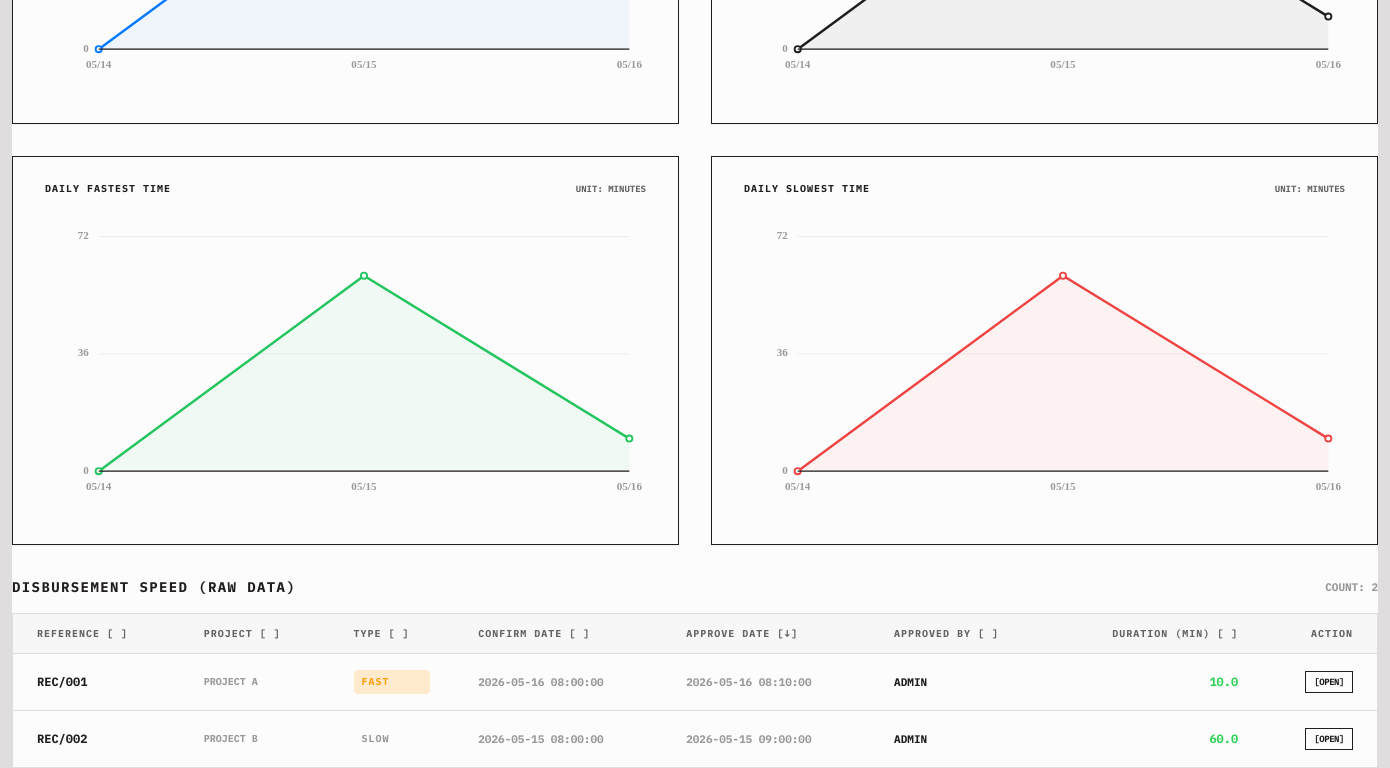
Scenario: DisbursementReport Component › handles sorting
(page scrolled)
Click the text "Reference [ ]": point(82, 634) left=37, top=627, right=128, bottom=640
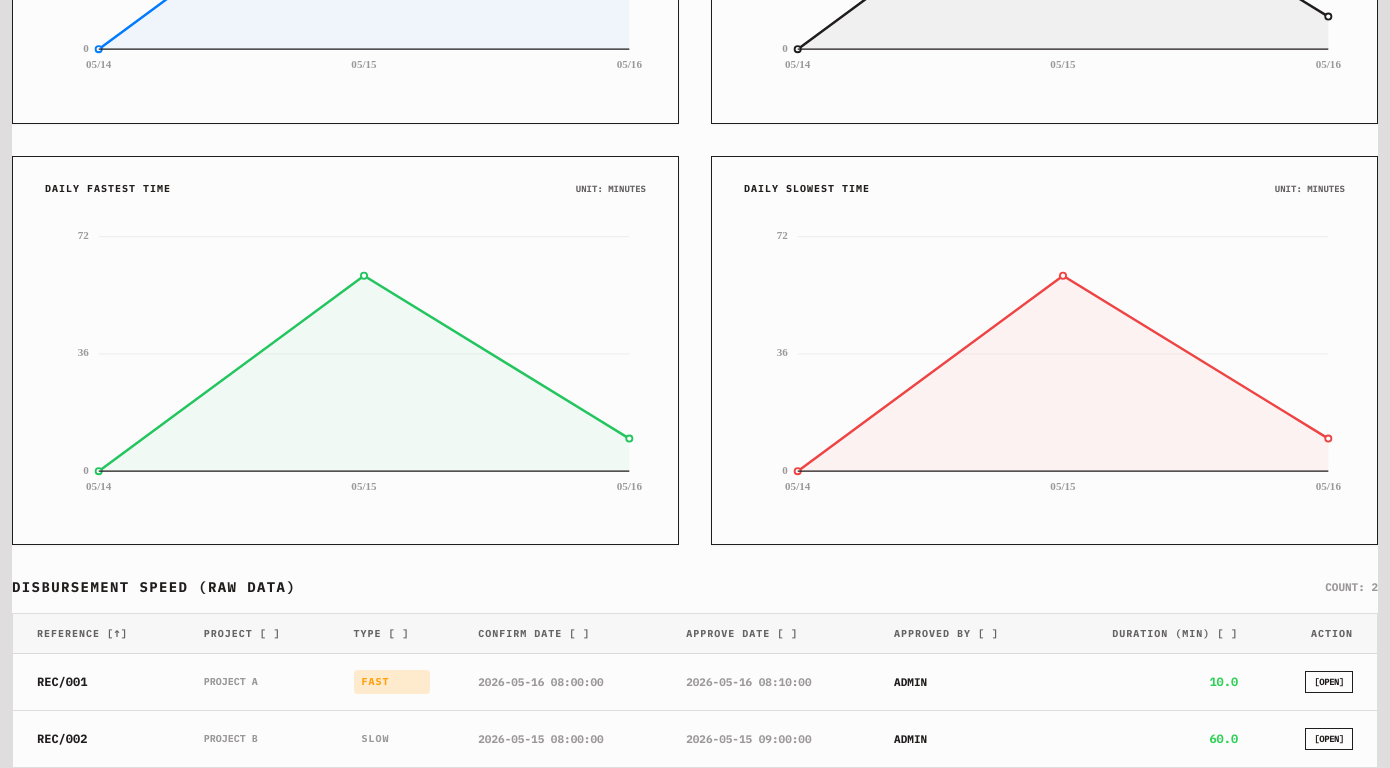
Check: the text "Reference [↑]" is shown, box left=37, top=627, right=128, bottom=640
